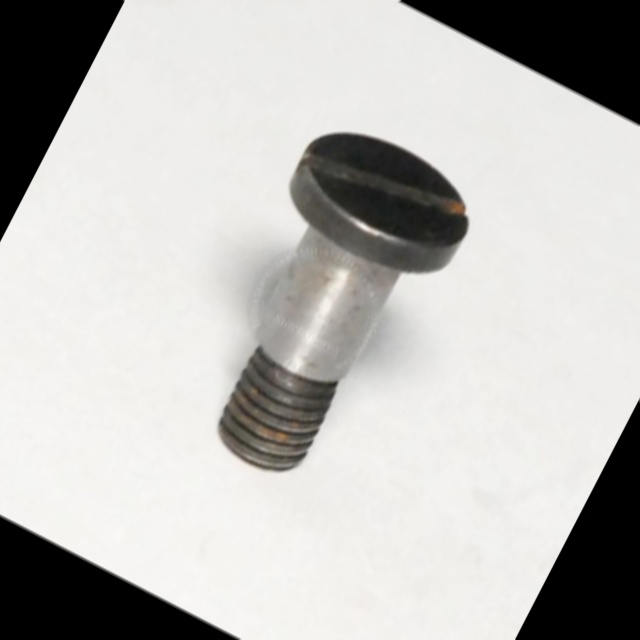duz: (270, 103, 491, 297)
